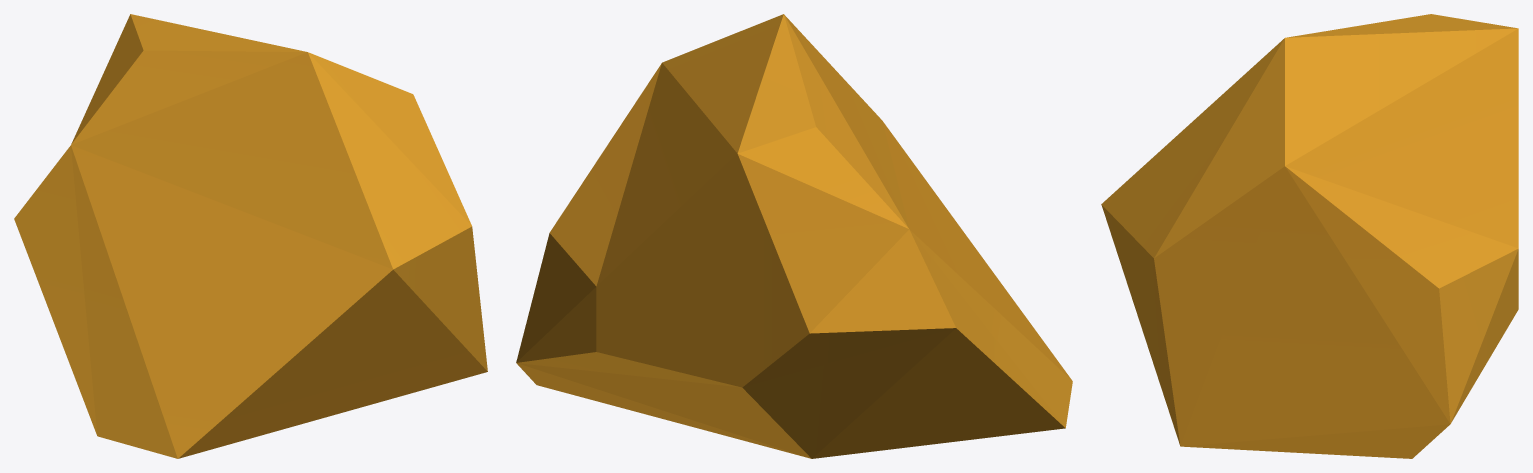
File: Gold 01.FBX
The picture shows the model from 3 angles, left to right: view 1: azimuth 30°, elevation 25°; view 2: azimuth 150°, elevation 25°; view 3: azimuth 270°, elevation 25°; orthographic projection. The views are drawn at different scales.
Parts seen in each view (by area): view 1: Gold 01; view 2: Gold 01; view 3: Gold 01.
Boxes of the visible parts, <box> form: Gold 01: <box>14,14,487,458</box>; Gold 01: <box>516,14,1072,458</box>; Gold 01: <box>1101,14,1518,458</box>.
Size of the model in its own units: 32.14 by 25.39 by 28.26.
